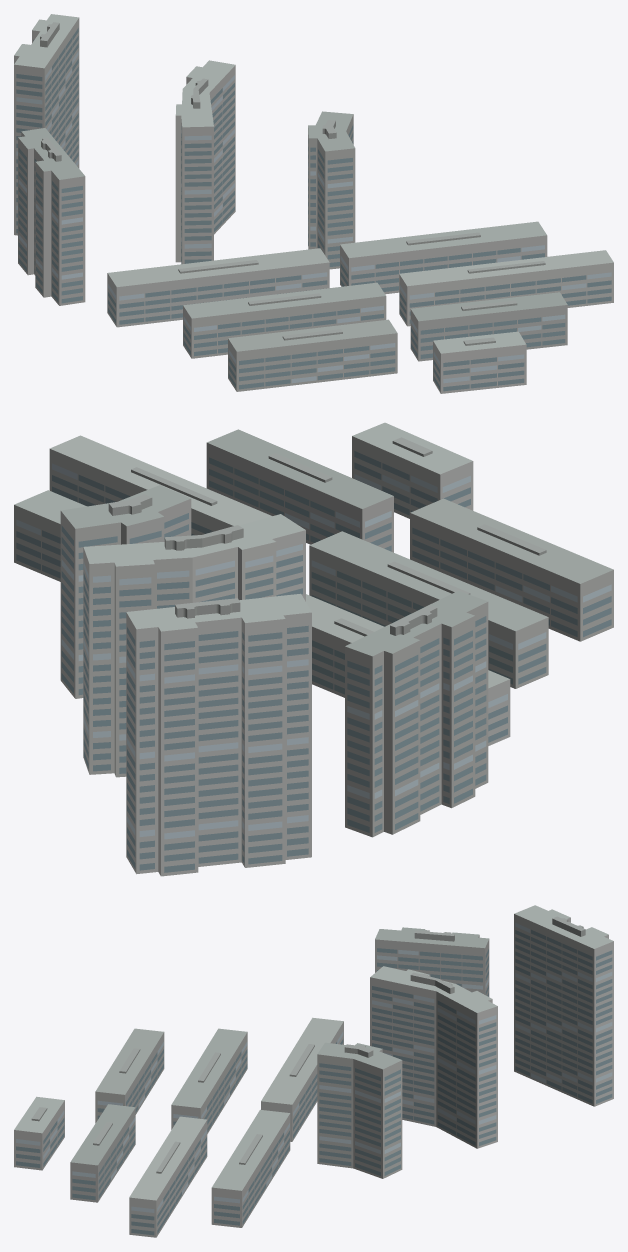
File: apt-a10023565.glb
3 views of the same model, one above another, from view 1: azimuth 30°, elevation 25°; view 2: azimuth 150°, elevation 25°; view 3: azimuth 270°, elevation 25° (orthographic). The views are drawn at different scales.
Parts seen in each view (by area): view 1: apt-a10023565; view 2: apt-a10023565; view 3: apt-a10023565.
Part boxes in pixels (<box>): apt-a10023565: <box>14,14,613,393</box>; apt-a10023565: <box>14,422,613,876</box>; apt-a10023565: <box>14,905,613,1237</box>.
Bounding box in the file's own units: 170 × 67 × 223.
